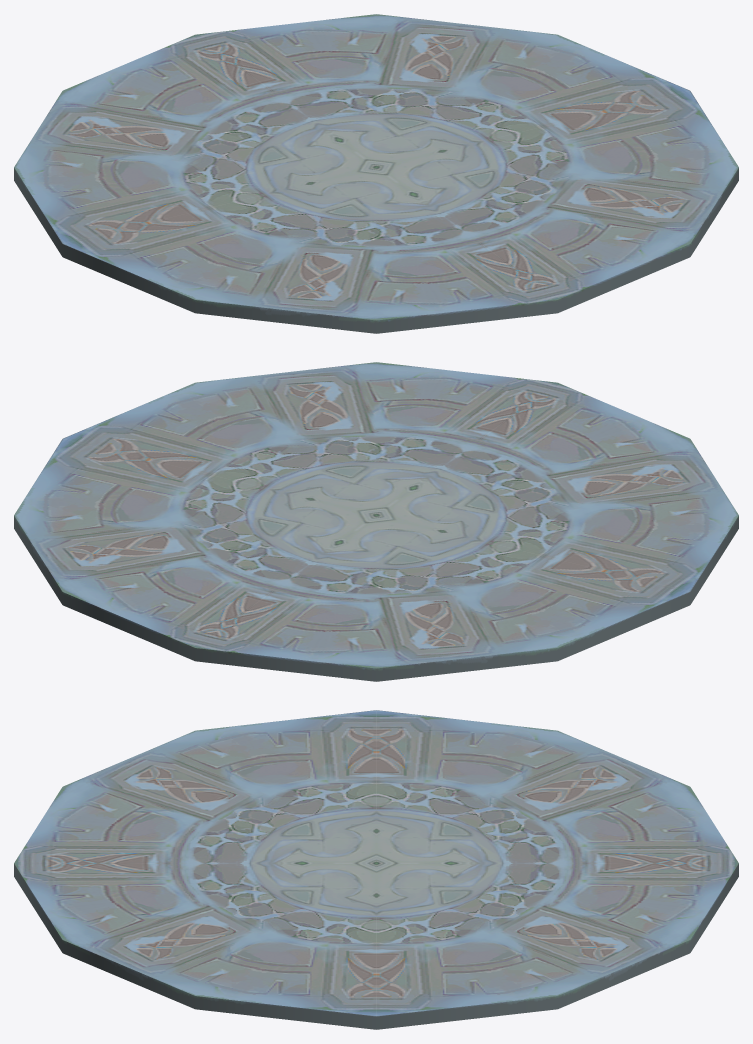
Rendered from Map_10_platform04.FBX.
The picture shows the model from 3 angles, top to bottom: view 1: azimuth 30°, elevation 25°; view 2: azimuth 150°, elevation 25°; view 3: azimuth 270°, elevation 25°; orthographic projection.
Visible parts, largest first — view 1: Map_10_platform04; view 2: Map_10_platform04; view 3: Map_10_platform04.
Part boxes in pixels (bbox=[...]): Map_10_platform04: bbox=[14, 14, 738, 333]; Map_10_platform04: bbox=[14, 362, 738, 681]; Map_10_platform04: bbox=[14, 710, 738, 1029].
Bounding box in the file's own units: 41.14 × 0.8353 × 41.14.
